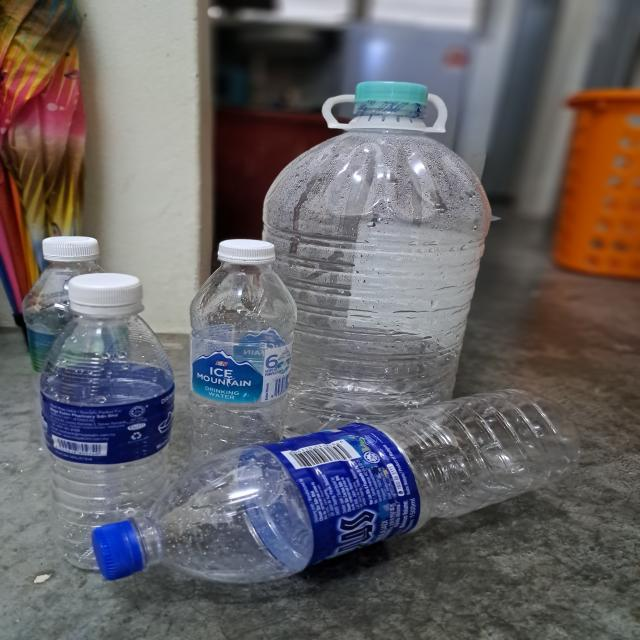plastic bottle: (158, 391, 584, 584), (268, 127, 490, 432), (42, 319, 166, 566), (193, 266, 298, 494), (27, 266, 128, 447)
plastic bottle cap: (71, 274, 146, 320), (88, 519, 141, 584), (353, 78, 432, 119), (41, 236, 104, 265), (216, 237, 276, 266)
